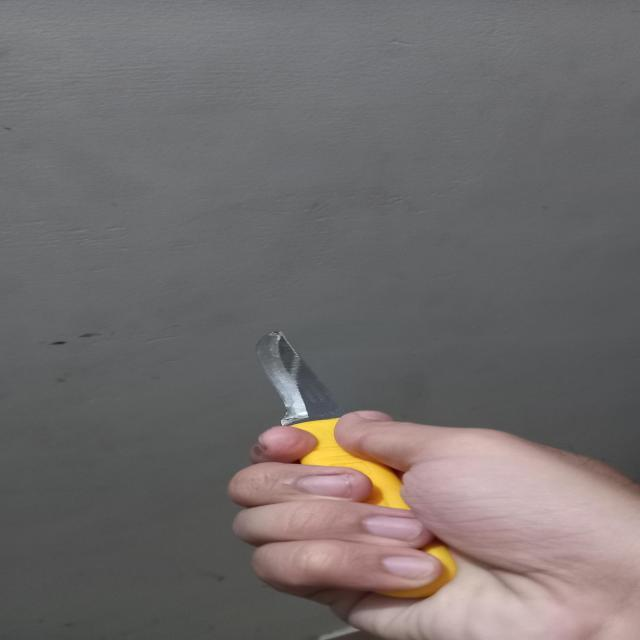faca: (256, 330, 456, 598)
